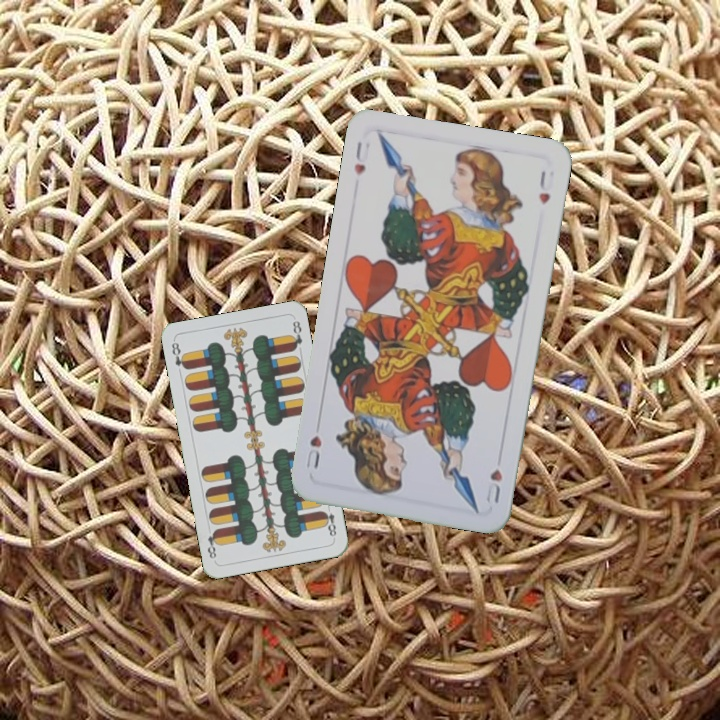E8: (167, 338, 190, 372), (319, 501, 339, 539)
HU: (482, 465, 505, 506), (350, 138, 372, 178)
